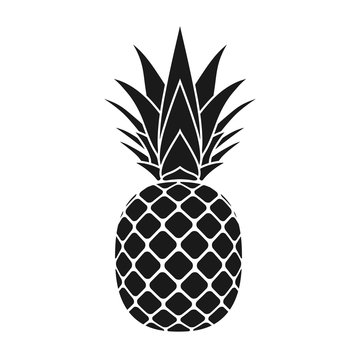Pineapple: (105, 21, 257, 333)
